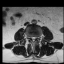CCS_normal: (32, 35, 34, 42)
LFS_stenosis: (36, 35, 37, 40)
LLS_normal: (34, 35, 36, 41)
RFS_stenosis: (29, 35, 31, 40)
RLS_stenosis: (31, 36, 32, 40)
